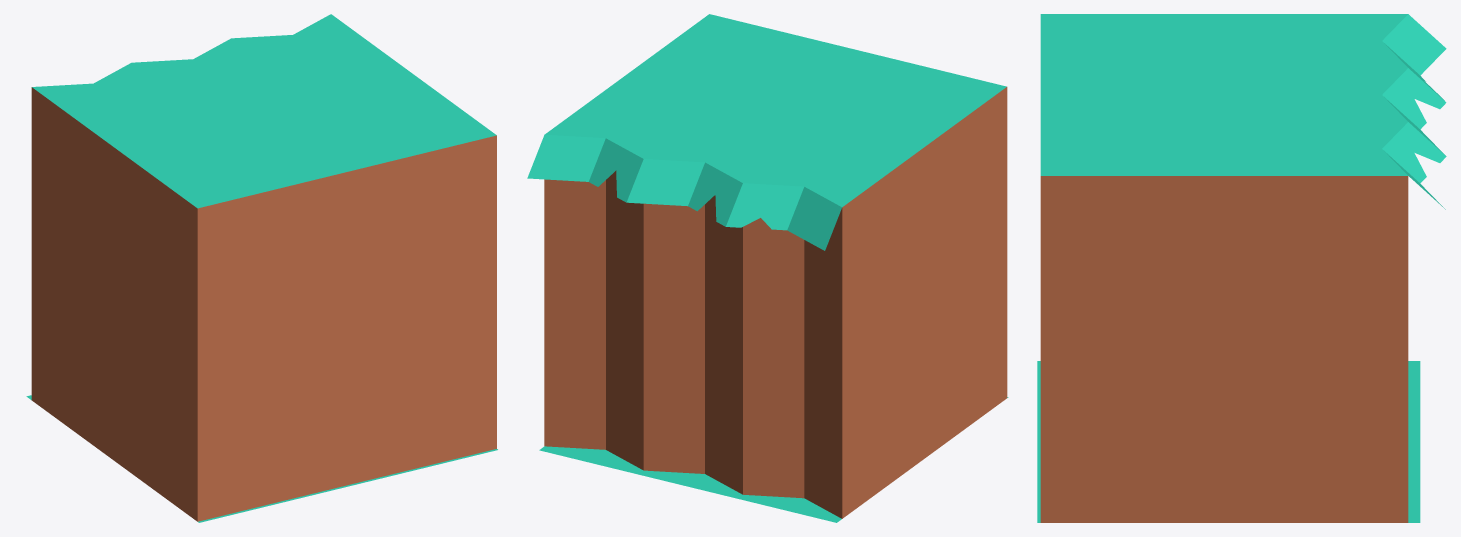
Rendered from border.glb.
The picture shows the model from 3 angles, left to right: view 1: azimuth 30°, elevation 25°; view 2: azimuth 150°, elevation 25°; view 3: azimuth 270°, elevation 25°; orthographic projection. The views are drawn at different scales.
Parts seen in each view (by area): view 1: mergedBlocks(Clone); view 2: mergedBlocks(Clone); view 3: mergedBlocks(Clone).
Part boxes in pixels (x1,y1,x2,y2): mergedBlocks(Clone): (26, 14, 497, 522); mergedBlocks(Clone): (527, 14, 1008, 522); mergedBlocks(Clone): (1037, 14, 1446, 522).
Size of the model in its own units: 1 by 1 by 1.07.
